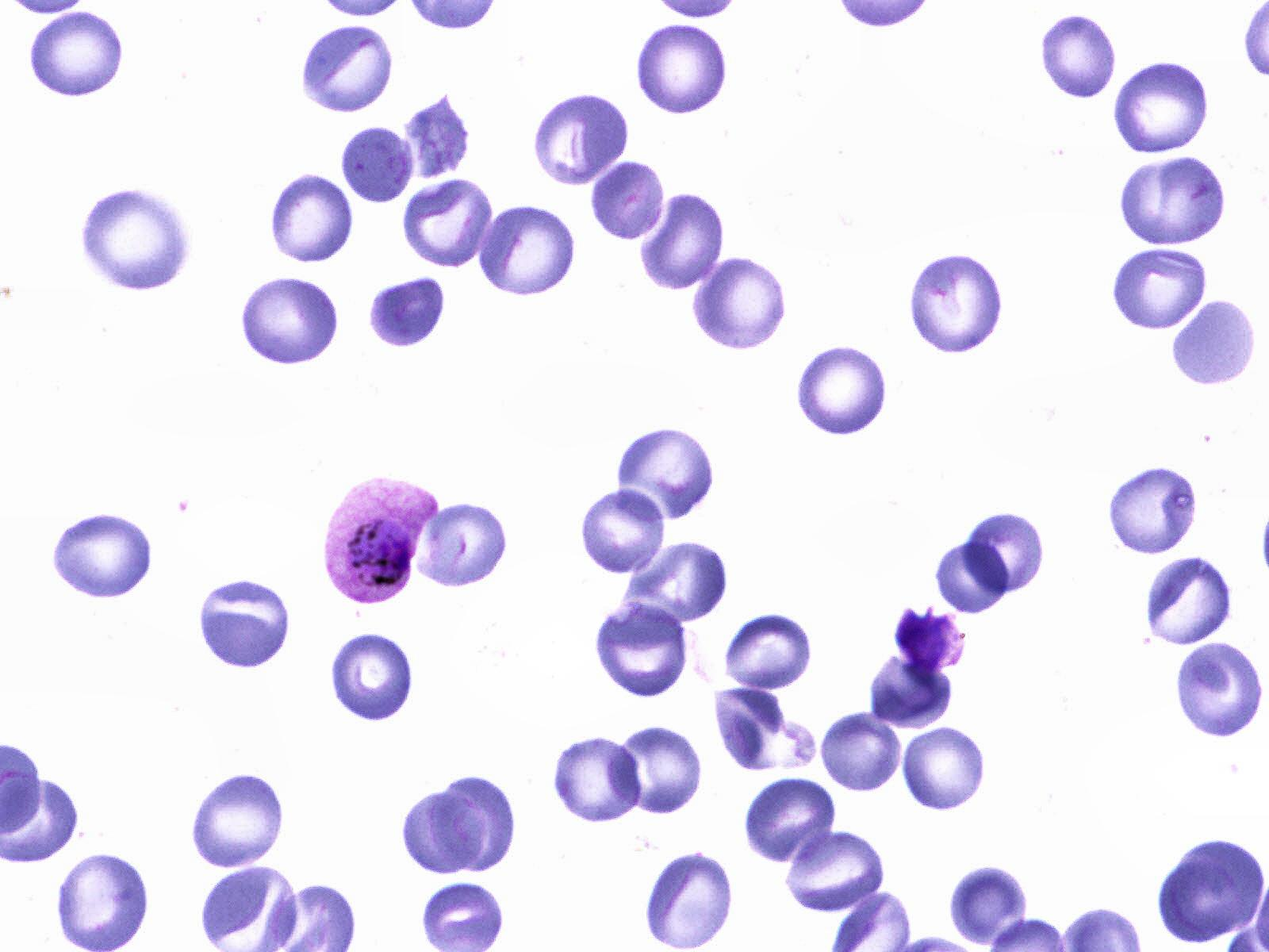Infected: (326, 478, 442, 601)
Uninfected: (76, 186, 192, 294), (1114, 155, 1232, 245), (53, 851, 155, 951), (235, 275, 345, 367), (615, 427, 719, 523), (635, 191, 728, 297), (48, 509, 156, 600), (535, 87, 632, 188), (190, 774, 287, 872), (398, 171, 494, 270), (907, 251, 1001, 352), (1171, 840, 1267, 938), (597, 602, 692, 701), (1105, 463, 1205, 557), (22, 10, 128, 98), (1110, 63, 1214, 152), (480, 205, 578, 298), (647, 850, 736, 951), (1110, 244, 1212, 332), (412, 501, 510, 592), (781, 831, 884, 917), (627, 539, 730, 625), (691, 252, 784, 347), (431, 774, 519, 874), (611, 725, 704, 819), (714, 688, 816, 772), (796, 346, 891, 436), (197, 581, 293, 670), (267, 172, 358, 265), (303, 25, 397, 115), (636, 25, 730, 114), (742, 779, 838, 866), (1177, 641, 1262, 739), (1146, 555, 1236, 647), (577, 489, 668, 577), (944, 862, 1033, 950), (552, 735, 642, 822), (1170, 296, 1256, 387), (1156, 859, 1244, 946), (1037, 13, 1122, 102), (962, 511, 1049, 597), (332, 635, 415, 723), (901, 727, 991, 808), (587, 159, 671, 244), (406, 790, 491, 874), (728, 612, 818, 690), (336, 121, 413, 207), (865, 656, 951, 730), (825, 715, 903, 792), (367, 274, 447, 348), (406, 92, 473, 179), (936, 539, 1010, 616)
